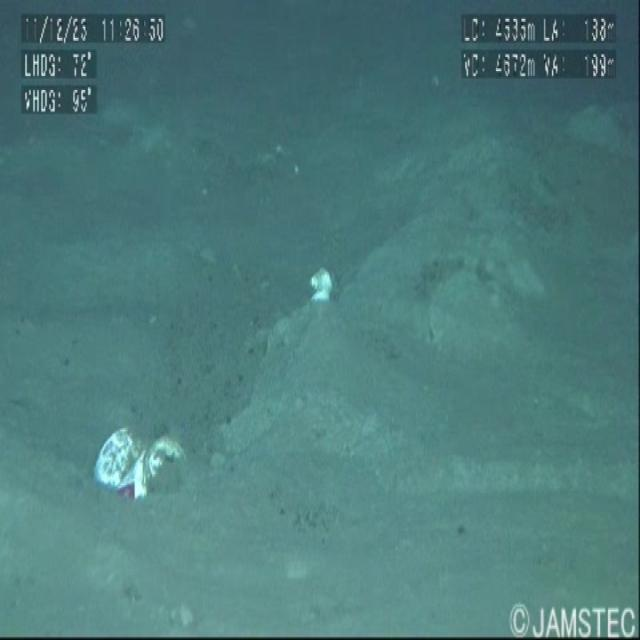Litter: (69, 395, 188, 553), (302, 248, 361, 344)
